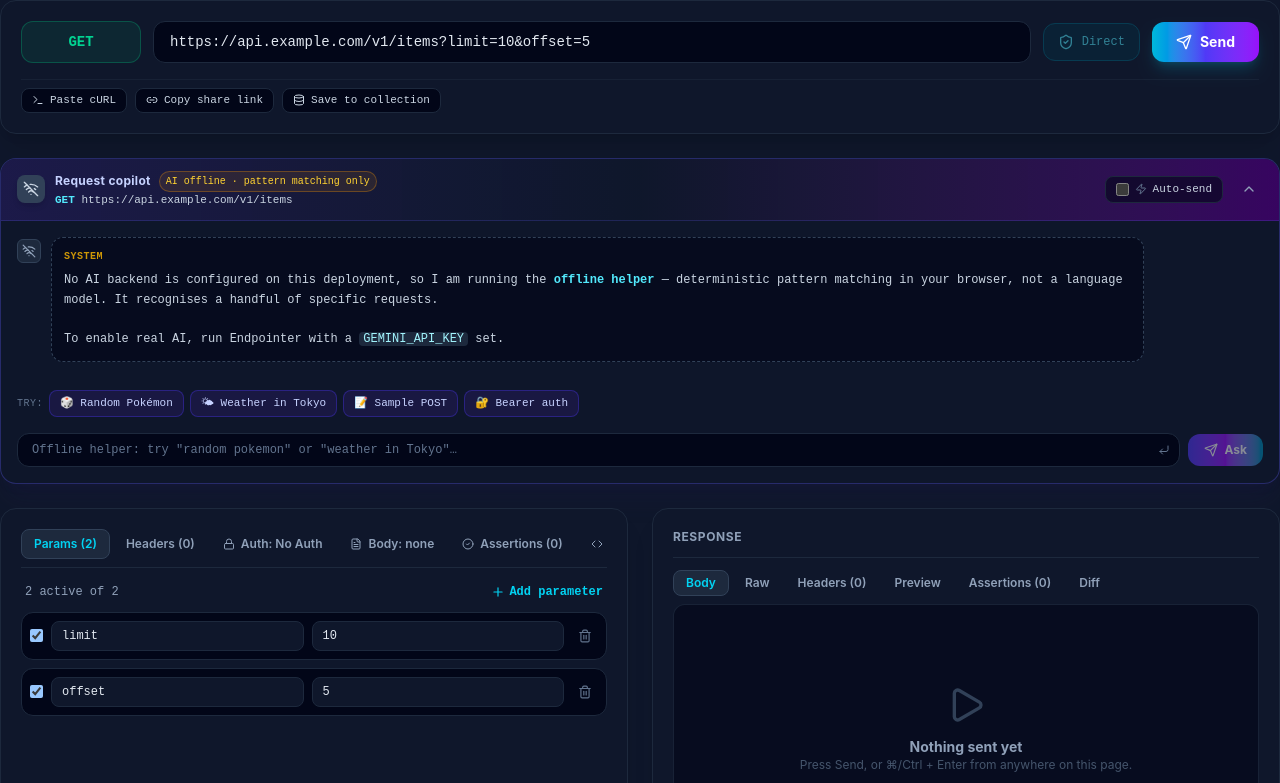
Test case: Playground request lifecycle › surfaces a classified failure rather than blaming CORS for everything
Step 1. Click the button "Send" → (1205, 42), box [1152, 22, 1259, 62]
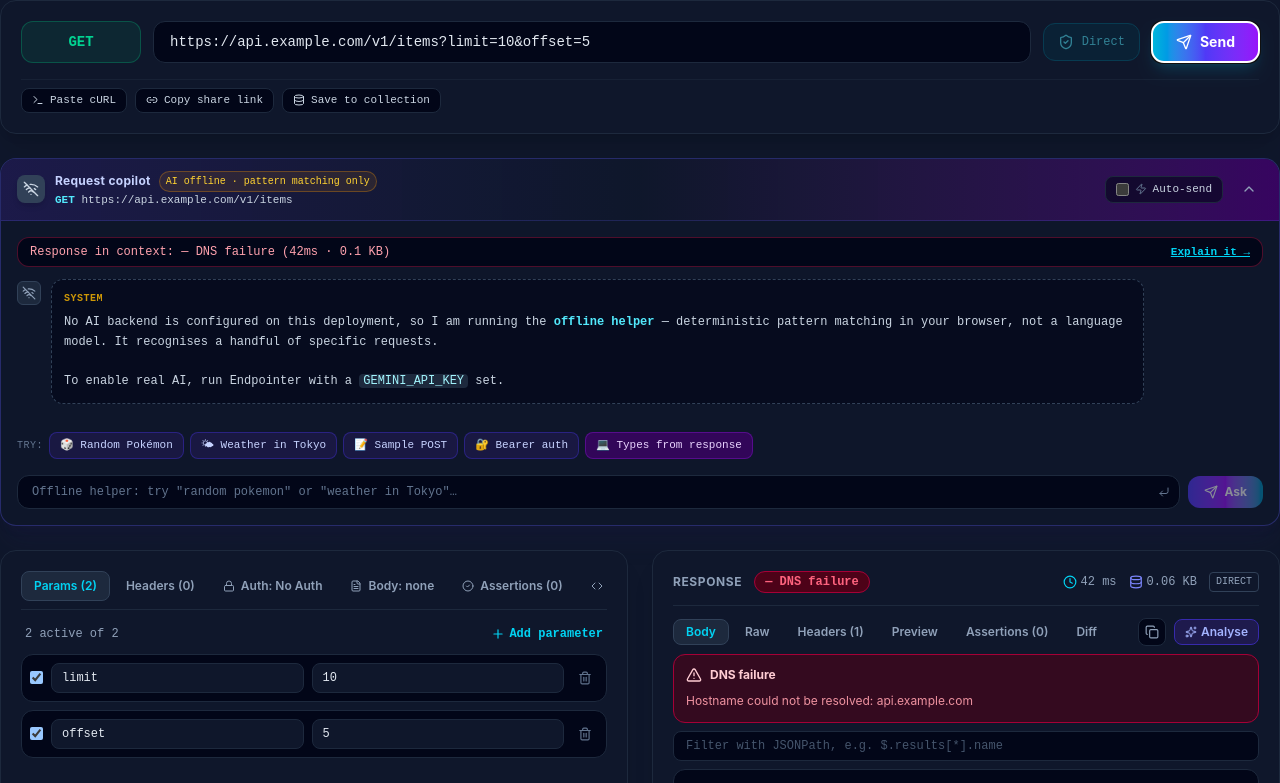
Result: the text "Hostname could not be resolved: api.example.com" is shown at [686, 693, 973, 708]
